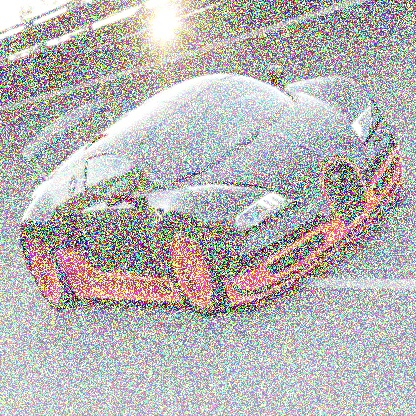Vehicle: (18, 62, 406, 318)
